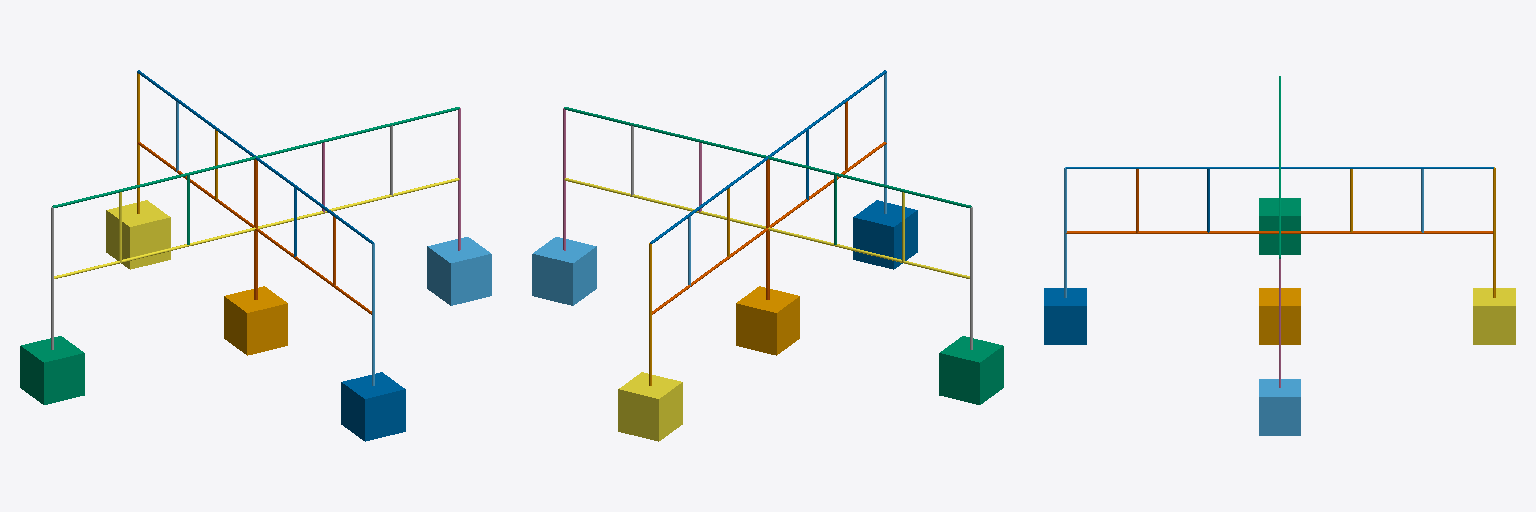
URDF robot description (perch_structure):
<?xml version="1.0" encoding="utf-8"?>

<robot name="perch_structure">

  <link name="base_1">
    <inertial>
      <origin xyz="0 0 0" />
      <mass value="5.0" />
      <inertia  ixx="0.3" ixy="0.0"  ixz="0.0"  iyy="0.3"  iyz="0.0"  izz="0.3" />
    </inertial>
    <visual>
      <origin xyz="0 0 0"/>
      <geometry>
        <box size="0.6 0.6 0.6" />
      </geometry>
    </visual>
    <collision>
      <origin xyz="0 0 0"/>
      <geometry>
        <box size="0.6 0.6 0.6" />
      </geometry>
    </collision>
  </link>

  <link name="base_2">
    <inertial>
      <origin xyz="0 0 0" />
      <mass value="5.0" />
      <inertia  ixx="0.3" ixy="0.0"  ixz="0.0"  iyy="0.3"  iyz="0.0"  izz="0.3" />
    </inertial>
    <visual>
      <origin xyz="0 0 0"/>
      <geometry>
        <box size="0.6 0.6 0.6" />
      </geometry>
    </visual>
    <collision>
      <origin xyz="0 0 0"/>
      <geometry>
        <box size="0.6 0.6 0.6" />
      </geometry>
    </collision>
  </link>

  <link name="base_3">
    <inertial>
      <origin xyz="0 0 0" />
      <mass value="5.0" />
      <inertia  ixx="0.3" ixy="0.0"  ixz="0.0"  iyy="0.3"  iyz="0.0"  izz="0.3" />
    </inertial>
    <visual>
      <origin xyz="0 0 0"/>
      <geometry>
        <box size="0.6 0.6 0.6" />
      </geometry>
    </visual>
    <collision>
      <origin xyz="0 0 0"/>
      <geometry>
        <box size="0.6 0.6 0.6" />
      </geometry>
    </collision>
  </link>

  <link name="base_4">
    <inertial>
      <origin xyz="0 0 0" />
      <mass value="5.0" />
      <inertia  ixx="0.3" ixy="0.0"  ixz="0.0"  iyy="0.3"  iyz="0.0"  izz="0.3" />
    </inertial>
    <visual>
      <origin xyz="0 0 0"/>
      <geometry>
        <box size="0.6 0.6 0.6" />
      </geometry>
    </visual>
    <collision>
      <origin xyz="0 0 0"/>
      <geometry>
        <box size="0.6 0.6 0.6" />
      </geometry>
    </collision>
  </link>

  <link name="base_5">
    <inertial>
      <origin xyz="0 0 0" />
      <mass value="5.0" />
      <inertia  ixx="0.3" ixy="0.0"  ixz="0.0"  iyy="0.3"  iyz="0.0"  izz="0.3" />
    </inertial>
    <visual>
      <origin xyz="0 0 0"/>
      <geometry>
        <box size="0.6 0.6 0.6" />
      </geometry>
    </visual>
    <collision>
      <origin xyz="0 0 0"/>
      <geometry>
        <box size="0.6 0.6 0.6" />
      </geometry>
    </collision>
  </link>

  <link name="pillar1">
    <inertial>
      <origin xyz="0 0 0" />
      <mass value="1.0" />
      <inertia  ixx="0.08416666666" ixy="0.0"  ixz="0.0"  iyy="0.08416666666"  iyz="0.0"  izz="0.00166666666" />
    </inertial>
    <visual>
      <origin xyz="0 0 0"/>
      <geometry>
        <cylinder radius="0.02" length="2" />
      </geometry>
    </visual>
    <collision>
      <origin xyz="0 0 0"/>
      <geometry>
        <cylinder radius="0.02" length="2" />
      </geometry>
    </collision>
  </link>

  <link name="pillar2">
    <inertial>
      <origin xyz="0 0 0" />
      <mass value="1.0" />
      <inertia  ixx="0.08416666666" ixy="0.0"  ixz="0.0"  iyy="0.08416666666"  iyz="0.0"  izz="0.00166666666" />
    </inertial>
    <visual>
      <origin xyz="0 0 0"/>
      <geometry>
        <cylinder radius="0.02" length="2" />
      </geometry>
    </visual>
    <collision>
      <origin xyz="0 0 0"/>
      <geometry>
        <cylinder radius="0.02" length="2" />
      </geometry>
    </collision>
  </link>

  <link name="pillar3">
    <inertial>
      <origin xyz="0 0 0" />
      <mass value="1.0" />
      <inertia  ixx="0.08416666666" ixy="0.0"  ixz="0.0"  iyy="0.08416666666"  iyz="0.0"  izz="0.00166666666" />
    </inertial>
    <visual>
      <origin xyz="0 0 0"/>
      <geometry>
        <cylinder radius="0.02" length="2" />
      </geometry>
    </visual>
    <collision>
      <origin xyz="0 0 0"/>
      <geometry>
        <cylinder radius="0.02" length="2" />
      </geometry>
    </collision>
  </link>

  <link name="pillar4">
    <inertial>
      <origin xyz="0 0 0" />
      <mass value="1.0" />
      <inertia  ixx="0.08416666666" ixy="0.0"  ixz="0.0"  iyy="0.08416666666"  iyz="0.0"  izz="0.00166666666" />
    </inertial>
    <visual>
      <origin xyz="0 0 0"/>
      <geometry>
        <cylinder radius="0.02" length="2" />
      </geometry>
    </visual>
    <collision>
      <origin xyz="0 0 0"/>
      <geometry>
        <cylinder radius="0.02" length="2" />
      </geometry>
    </collision>
  </link>

  <link name="pillar5">
    <inertial>
      <origin xyz="0 0 0" />
      <mass value="1.0" />
      <inertia  ixx="0.08416666666" ixy="0.0"  ixz="0.0"  iyy="0.08416666666"  iyz="0.0"  izz="0.00166666666" />
    </inertial>
    <visual>
      <origin xyz="0 0 0"/>
      <geometry>
        <cylinder radius="0.02" length="2" />
      </geometry>
    </visual>
    <collision>
      <origin xyz="0 0 0"/>
      <geometry>
        <cylinder radius="0.02" length="2" />
      </geometry>
    </collision>
  </link>

  <link name="cross1">
    <inertial>
      <origin xyz="0 0 0" />
      <mass value="1.0" />
      <inertia  ixx="0.08416666666" ixy="0.0"  ixz="0.0"  iyy="0.08416666666"  iyz="0.0"  izz="0.00166666666" />
    </inertial>
    <visual>
      <origin xyz="0 0 0"/>
      <geometry>
        <cylinder radius="0.02" length="6" />
      </geometry>
    </visual>
    <collision>
      <origin xyz="0 0 0"/>
      <geometry>
        <cylinder radius="0.02" length="6" />
      </geometry>
    </collision>
  </link>

  <link name="cross2">
    <inertial>
      <origin xyz="0 0 0" />
      <mass value="1.0" />
      <inertia  ixx="0.08416666666" ixy="0.0"  ixz="0.0"  iyy="0.08416666666"  iyz="0.0"  izz="0.00166666666" />
    </inertial>
    <visual>
      <origin xyz="0 0 0"/>
      <geometry>
        <cylinder radius="0.02" length="6" />
      </geometry>
    </visual>
    <collision>
      <origin xyz="0 0 0"/>
      <geometry>
        <cylinder radius="0.02" length="6" />
      </geometry>
    </collision>
  </link>

  <link name="cross3">
    <inertial>
      <origin xyz="0 0 0" />
      <mass value="1.0" />
      <inertia  ixx="0.08416666666" ixy="0.0"  ixz="0.0"  iyy="0.08416666666"  iyz="0.0"  izz="0.00166666666" />
    </inertial>
    <visual>
      <origin xyz="0 0 0"/>
      <geometry>
        <cylinder radius="0.02" length="6" />
      </geometry>
    </visual>
    <collision>
      <origin xyz="0 0 0"/>
      <geometry>
        <cylinder radius="0.02" length="6" />
      </geometry>
    </collision>
  </link>

  <link name="cross4">
    <inertial>
      <origin xyz="0 0 0" />
      <mass value="1.0" />
      <inertia  ixx="0.08416666666" ixy="0.0"  ixz="0.0"  iyy="0.08416666666"  iyz="0.0"  izz="0.00166666666" />
    </inertial>
    <visual>
      <origin xyz="0 0 0"/>
      <geometry>
        <cylinder radius="0.02" length="6" />
      </geometry>
    </visual>
    <collision>
      <origin xyz="0 0 0"/>
      <geometry>
        <cylinder radius="0.02" length="6" />
      </geometry>
    </collision>
  </link>

  <link name="sup1">
    <inertial>
      <origin xyz="0 0 0" />
      <mass value="1.0" />
      <inertia  ixx="0.08416666666" ixy="0.0"  ixz="0.0"  iyy="0.08416666666"  iyz="0.0"  izz="0.00166666666" />
    </inertial>
    <visual>
      <origin xyz="0 0 0"/>
      <geometry>
        <cylinder radius="0.02" length="1" />
      </geometry>
    </visual>
    <collision>
      <origin xyz="0 0 0"/>
      <geometry>
        <cylinder radius="0.02" length="1" />
      </geometry>
    </collision>
  </link>

  <link name="sup2">
    <inertial>
      <origin xyz="0 0 0" />
      <mass value="1.0" />
      <inertia  ixx="0.08416666666" ixy="0.0"  ixz="0.0"  iyy="0.08416666666"  iyz="0.0"  izz="0.00166666666" />
    </inertial>
    <visual>
      <origin xyz="0 0 0"/>
      <geometry>
        <cylinder radius="0.02" length="1" />
      </geometry>
    </visual>
    <collision>
      <origin xyz="0 0 0"/>
      <geometry>
        <cylinder radius="0.02" length="1" />
      </geometry>
    </collision>
  </link>

  <link name="sup3">
    <inertial>
      <origin xyz="0 0 0" />
      <mass value="1.0" />
      <inertia  ixx="0.08416666666" ixy="0.0"  ixz="0.0"  iyy="0.08416666666"  iyz="0.0"  izz="0.00166666666" />
    </inertial>
    <visual>
      <origin xyz="0 0 0"/>
      <geometry>
        <cylinder radius="0.02" length="1" />
      </geometry>
    </visual>
    <collision>
      <origin xyz="0 0 0"/>
      <geometry>
        <cylinder radius="0.02" length="1" />
      </geometry>
    </collision>
  </link>

  <link name="sup4">
    <inertial>
      <origin xyz="0 0 0" />
      <mass value="1.0" />
      <inertia  ixx="0.08416666666" ixy="0.0"  ixz="0.0"  iyy="0.08416666666"  iyz="0.0"  izz="0.00166666666" />
    </inertial>
    <visual>
      <origin xyz="0 0 0"/>
      <geometry>
        <cylinder radius="0.02" length="1" />
      </geometry>
    </visual>
    <collision>
      <origin xyz="0 0 0"/>
      <geometry>
        <cylinder radius="0.02" length="1" />
      </geometry>
    </collision>
  </link>

  <link name="sup5">
    <inertial>
      <origin xyz="0 0 0" />
      <mass value="1.0" />
      <inertia  ixx="0.08416666666" ixy="0.0"  ixz="0.0"  iyy="0.08416666666"  iyz="0.0"  izz="0.00166666666" />
    </inertial>
    <visual>
      <origin xyz="0 0 0"/>
      <geometry>
        <cylinder radius="0.02" length="1" />
      </geometry>
    </visual>
    <collision>
      <origin xyz="0 0 0"/>
      <geometry>
        <cylinder radius="0.02" length="1" />
      </geometry>
    </collision>
  </link>

  <link name="sup6">
    <inertial>
      <origin xyz="0 0 0" />
      <mass value="1.0" />
      <inertia  ixx="0.08416666666" ixy="0.0"  ixz="0.0"  iyy="0.08416666666"  iyz="0.0"  izz="0.00166666666" />
    </inertial>
    <visual>
      <origin xyz="0 0 0"/>
      <geometry>
        <cylinder radius="0.02" length="1" />
      </geometry>
    </visual>
    <collision>
      <origin xyz="0 0 0"/>
      <geometry>
        <cylinder radius="0.02" length="1" />
      </geometry>
    </collision>
  </link>

  <link name="sup7">
    <inertial>
      <origin xyz="0 0 0" />
      <mass value="1.0" />
      <inertia  ixx="0.08416666666" ixy="0.0"  ixz="0.0"  iyy="0.08416666666"  iyz="0.0"  izz="0.00166666666" />
    </inertial>
    <visual>
      <origin xyz="0 0 0"/>
      <geometry>
        <cylinder radius="0.02" length="1" />
      </geometry>
    </visual>
    <collision>
      <origin xyz="0 0 0"/>
      <geometry>
        <cylinder radius="0.02" length="1" />
      </geometry>
    </collision>
  </link>

  <link name="sup8">
    <inertial>
      <origin xyz="0 0 0" />
      <mass value="1.0" />
      <inertia  ixx="0.08416666666" ixy="0.0"  ixz="0.0"  iyy="0.08416666666"  iyz="0.0"  izz="0.00166666666" />
    </inertial>
    <visual>
      <origin xyz="0 0 0"/>
      <geometry>
        <cylinder radius="0.02" length="1" />
      </geometry>
    </visual>
    <collision>
      <origin xyz="0 0 0"/>
      <geometry>
        <cylinder radius="0.02" length="1" />
      </geometry>
    </collision>
  </link>




  <joint name="base_fix12" type="fixed">
    <origin xyz = "3 0 0"/>
    <parent link="base_1"/>
    <child link="base_2"/>
  </joint>

  <joint name="base_fix13" type="fixed">
    <origin xyz = "-3 0 0"/>
    <parent link="base_1"/>
    <child link="base_3"/>
  </joint>

  <joint name="base_fix14" type="fixed">
    <origin xyz = "0 3 0"/>
    <parent link="base_1"/>
    <child link="base_4"/>
  </joint>

  <joint name="base_fix15" type="fixed">
    <origin xyz = "0 -3 0"/>
    <parent link="base_1"/>
    <child link="base_5"/>
  </joint>

  <joint name="pillar_fix1" type="fixed">
    <origin xyz = "0 0 1.3"/>
    <parent link="base_1"/>
    <child link="pillar1"/>
  </joint>

  <joint name="pillar_fix2" type="fixed">
    <origin xyz = "0 0 1.3"/>
    <parent link="base_2"/>
    <child link="pillar2"/>
  </joint>

  <joint name="pillar_fix3" type="fixed">
    <origin xyz = "0 0 1.3"/>
    <parent link="base_3"/>
    <child link="pillar3"/>
  </joint>

  <joint name="pillar_fix4" type="fixed">
    <origin xyz = "0 0 1.3"/>
    <parent link="base_4"/>
    <child link="pillar4"/>
  </joint>

  <joint name="pillar_fix5" type="fixed">
    <origin xyz = "0 0 1.3"/>
    <parent link="base_5"/>
    <child link="pillar5"/>
  </joint>

  <joint name="cross_fix1" type="fixed">
    <origin xyz="0 0 1" rpy="0 1.57079632679 0"/>
    <parent link="pillar1"/>
    <child link="cross1"/>
  </joint>

  <joint name="cross_fix2" type="fixed">
    <origin xyz="0 0 0" rpy="0 1.57079632679 0"/>
    <parent link="pillar1"/>
    <child link="cross2"/>
  </joint>

  <joint name="cross_fix3" type="fixed">
    <origin xyz="0 0 1" rpy="1.57079632679 0 0"/>
    <parent link="pillar1"/>
    <child link="cross3"/>
  </joint>

  <joint name="cross_fix4" type="fixed">
    <origin xyz="0 0 0" rpy="1.57079632679 0 0"/>
    <parent link="pillar1"/>
    <child link="cross4"/>
  </joint>

  <joint name="sup_fix1" type="fixed">
    <origin xyz = "1 0 0.5"/>
    <parent link="pillar1"/>
    <child link="sup1"/>
  </joint>

  <joint name="sup_fix2" type="fixed">
    <origin xyz = "2 0 0.5"/>
    <parent link="pillar1"/>
    <child link="sup2"/>
  </joint>

  <joint name="sup_fix3" type="fixed">
    <origin xyz = "0 1 0.5"/>
    <parent link="pillar1"/>
    <child link="sup3"/>
  </joint>

  <joint name="sup_fix4" type="fixed">
    <origin xyz = "0 2 0.5"/>
    <parent link="pillar1"/>
    <child link="sup4"/>
  </joint>

  <joint name="sup_fix5" type="fixed">
    <origin xyz = "-1 0 0.5"/>
    <parent link="pillar1"/>
    <child link="sup5"/>
  </joint>

  <joint name="sup_fix6" type="fixed">
    <origin xyz = "-2 0 0.5"/>
    <parent link="pillar1"/>
    <child link="sup6"/>
  </joint>

  <joint name="sup_fix7" type="fixed">
    <origin xyz = "0 -1 0.5"/>
    <parent link="pillar1"/>
    <child link="sup7"/>
  </joint>

  <joint name="sup_fix8" type="fixed">
    <origin xyz = "0 -2 0.5"/>
    <parent link="pillar1"/>
    <child link="sup8"/>
  </joint>


<!--   <joint name="base_fix" type="fixed">
    <origin xyz="0 0 0"/>
    <parent link="world"/>
    <child link="base_link"/>
  </joint> -->

  <gazebo reference="base_1">
    <mu1>100.0</mu1>
    <mu2>100.0</mu2>
    <minDepth>0.003</minDepth>  
    <maxVel>0</maxVel>
    <!-- <kinematic> true </kinematic> -->
  </gazebo>

  <gazebo reference="base_2">
    <mu1>100.0</mu1>
    <mu2>100.0</mu2>
    <minDepth>0.003</minDepth>  
    <maxVel>0</maxVel>
    <!-- <kinematic> true </kinematic> -->
  </gazebo>

  <gazebo reference="base_3">
    <mu1>100.0</mu1>
    <mu2>100.0</mu2>
    <minDepth>0.003</minDepth>  
    <maxVel>0</maxVel>  
    <!-- <kinematic> true </kinematic> -->
  </gazebo>

  <gazebo reference="base_4">
    <mu1>100.0</mu1>
    <mu2>100.0</mu2>
    <minDepth>0.003</minDepth>  
    <maxVel>0</maxVel>  
    <!-- <kinematic> true </kinematic> -->
  </gazebo>

  <gazebo reference="pillar1">
    <mu1>100.0</mu1>
    <mu2>100.0</mu2>
    <minDepth>0.003</minDepth>  
    <maxVel>0</maxVel>
    <!-- <kinematic> true </kinematic> -->
  </gazebo>

  <gazebo reference="pillar2">
    <mu1>100.0</mu1>
    <mu2>100.0</mu2>
    <minDepth>0.003</minDepth>  
    <maxVel>0</maxVel>
    <!-- <kinematic> true </kinematic> -->
  </gazebo>

  <gazebo reference="pillar3">
    <mu1>100.0</mu1>
    <mu2>100.0</mu2>
    <minDepth>0.003</minDepth>  
    <maxVel>0</maxVel>  
    <!-- <kinematic> true </kinematic> -->
  </gazebo>

  <gazebo reference="pillar4">
    <mu1>100.0</mu1>
    <mu2>100.0</mu2>
    <minDepth>0.003</minDepth>  
    <maxVel>0</maxVel>  
    <!-- <kinematic> true </kinematic> -->
  </gazebo>

  <gazebo reference="pillar5">
    <mu1>100.0</mu1>
    <mu2>100.0</mu2>
    <minDepth>0.003</minDepth>  
    <maxVel>0</maxVel>  
    <!-- <kinematic> true </kinematic> -->
  </gazebo>

  <gazebo reference="cross1">
    <mu1>100.0</mu1>
    <mu2>100.0</mu2>
    <minDepth>0.003</minDepth>  
    <maxVel>0</maxVel>  
    <!-- <kinematic> true </kinematic> -->
  </gazebo>

  <gazebo reference="cross2">
    <mu1>100.0</mu1>
    <mu2>100.0</mu2>
    <minDepth>0.003</minDepth>  
    <maxVel>0</maxVel>  
    <!-- <kinematic> true </kinematic> -->
  </gazebo>

  <gazebo reference="cross3">
    <mu1>100.0</mu1>
    <mu2>100.0</mu2>
    <minDepth>0.003</minDepth>  
    <maxVel>0</maxVel>  
    <!-- <kinematic> true </kinematic> -->
  </gazebo>

  <gazebo reference="cross4">
    <mu1>100.0</mu1>
    <mu2>100.0</mu2>
    <minDepth>0.003</minDepth>  
    <maxVel>0</maxVel>  
    <!-- <kinematic> true </kinematic> -->
  </gazebo>

  <gazebo reference="sup1">
    <mu1>100.0</mu1>
    <mu2>100.0</mu2>
    <minDepth>0.003</minDepth>  
    <maxVel>0</maxVel>  
    <!-- <kinematic> true </kinematic> -->
  </gazebo>

  <gazebo reference="sup2">
    <mu1>100.0</mu1>
    <mu2>100.0</mu2>
    <minDepth>0.003</minDepth>  
    <maxVel>0</maxVel>  
    <!-- <kinematic> true </kinematic> -->
  </gazebo>

  <gazebo reference="sup3">
    <mu1>100.0</mu1>
    <mu2>100.0</mu2>
    <minDepth>0.003</minDepth>  
    <maxVel>0</maxVel>  
    <!-- <kinematic> true </kinematic> -->  
  </gazebo>

  <gazebo reference="sup4">
    <mu1>100.0</mu1>
    <mu2>100.0</mu2>
    <minDepth>0.003</minDepth>  
    <maxVel>0</maxVel>  
    <!-- <kinematic> true </kinematic> -->  
  </gazebo>

  <gazebo reference="sup5">
    <mu1>100.0</mu1>
    <mu2>100.0</mu2>
    <minDepth>0.003</minDepth>  
    <maxVel>0</maxVel>  
    <!-- <kinematic> true </kinematic> -->  
  </gazebo>

  <gazebo reference="sup6">
    <mu1>100.0</mu1>
    <mu2>100.0</mu2>
    <minDepth>0.003</minDepth>  
    <maxVel>0</maxVel>  
    <!-- <kinematic> true </kinematic> -->  
  </gazebo>

  <gazebo reference="sup7">
    <mu1>100.0</mu1>
    <mu2>100.0</mu2>
    <minDepth>0.003</minDepth>  
    <maxVel>0</maxVel>  
    <!-- <kinematic> true </kinematic> -->  
  </gazebo>

  <gazebo reference="sup8">
    <mu1>100.0</mu1>
    <mu2>100.0</mu2>
    <minDepth>0.003</minDepth>  
    <maxVel>0</maxVel>  
    <!-- <kinematic> true </kinematic> -->  
  </gazebo>
</robot>

--- What the picture shows (computed from the rendered views, not written in the file) ---
The picture shows the robot from 3 angles, left to right: view 1: azimuth 30°, elevation 25°; view 2: azimuth 150°, elevation 25°; view 3: azimuth 270°, elevation 25°; orthographic projection.
Robot: perch_structure — 22 links, 21 joints (21 fixed); root link base_1; default pose: all joints at 0.
Links seen in each view (by area): view 1: base_5, base_3, base_2, base_1, base_4, cross1, cross2, cross3, cross4, pillar1; view 2: base_4, base_3, base_2, base_1, base_5, cross1, cross2, cross3, cross4, pillar1; view 3: base_4, base_5, base_2, base_1, base_3, cross4, cross3.
Link boxes in pixels (x1,y1,x2,y2): base_5: (341,372,405,441); base_3: (20,336,84,404); base_2: (427,237,491,305); base_1: (224,286,287,355); base_4: (106,200,170,269); cross1: (52,107,459,207); cross2: (54,178,459,278); cross3: (137,70,373,243); cross4: (137,142,371,314); pillar1: (254,159,257,299); base_4: (618,372,682,441); base_3: (939,336,1003,404); base_2: (532,237,596,305); base_1: (736,286,799,355); base_5: (853,200,917,269); cross1: (564,107,971,207); cross2: (564,178,969,278); cross3: (650,70,886,243); cross4: (652,142,886,314); pillar1: (766,159,769,299); base_4: (1473,288,1515,344); base_5: (1044,288,1086,344); base_2: (1259,379,1300,435); base_1: (1259,288,1300,344); base_3: (1259,198,1300,254); cross4: (1066,231,1493,233); cross3: (1066,167,1493,168).
Size in the robot's own frame: 6.6 by 6.6 by 2.62 metres.
Geometry: primitives only (box / cylinder / sphere), no mesh files.